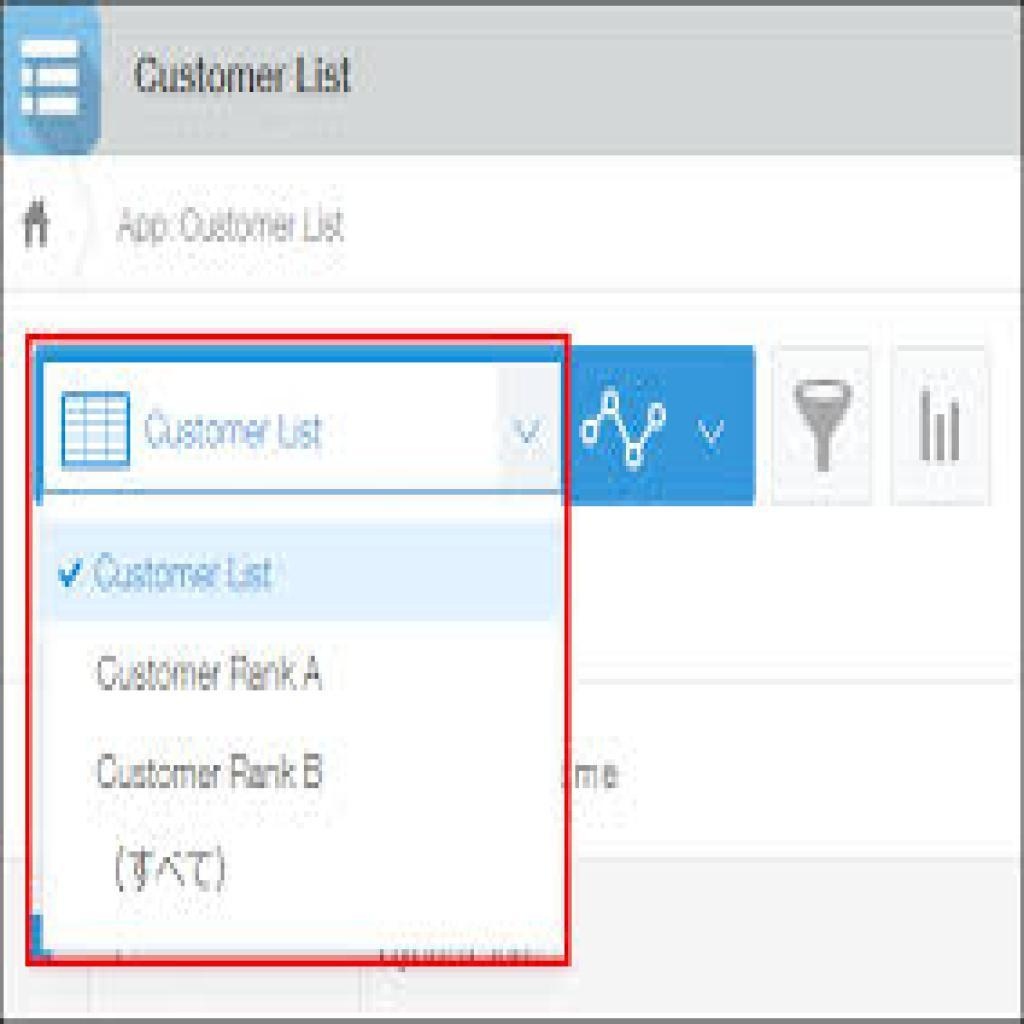dropdown: (38, 348, 565, 493), (562, 348, 756, 506)
icon: (772, 346, 870, 506), (895, 349, 991, 506)
